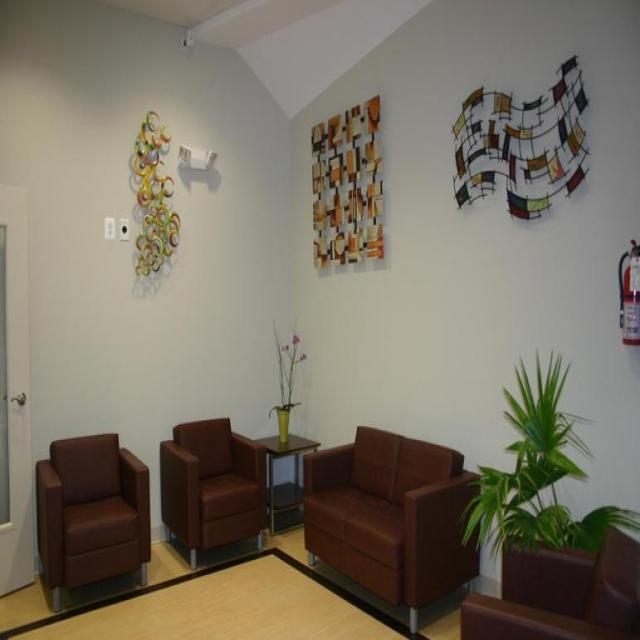carpet: (1, 545, 456, 639)
curtains: (451, 52, 591, 222)
door: (0, 183, 36, 596)
plants: (456, 347, 638, 562)
pots: (276, 408, 290, 442)
sofa: (302, 424, 482, 634), (35, 431, 151, 611), (460, 524, 639, 638), (160, 416, 266, 570)
windows: (310, 92, 386, 272)
